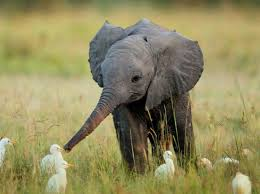Elephant: (30, 13, 214, 178)
